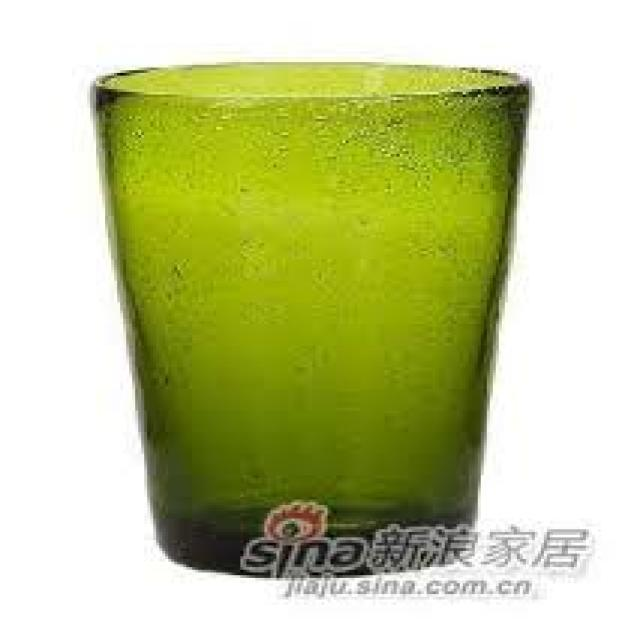glass: (93, 60, 529, 576)
